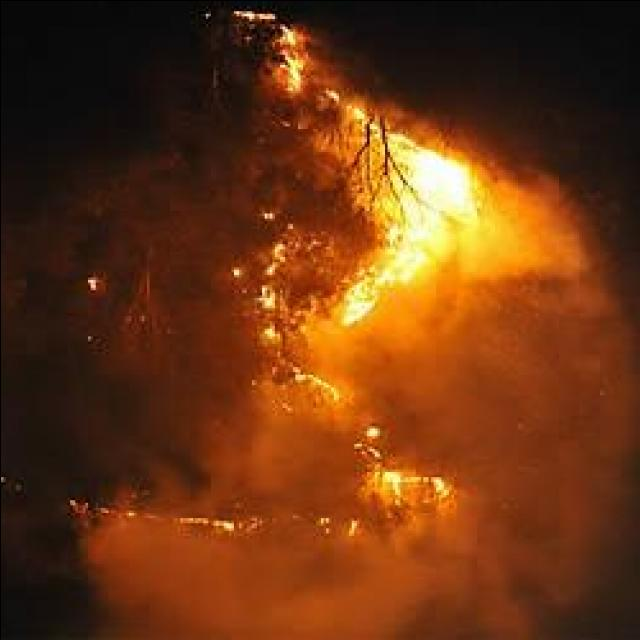fire: (384, 150, 470, 279), (363, 470, 447, 506), (276, 22, 303, 95), (308, 368, 338, 412), (178, 511, 234, 533), (341, 291, 373, 327)
smoke: (459, 286, 632, 625), (80, 536, 464, 636), (466, 147, 578, 297), (341, 334, 446, 406)
